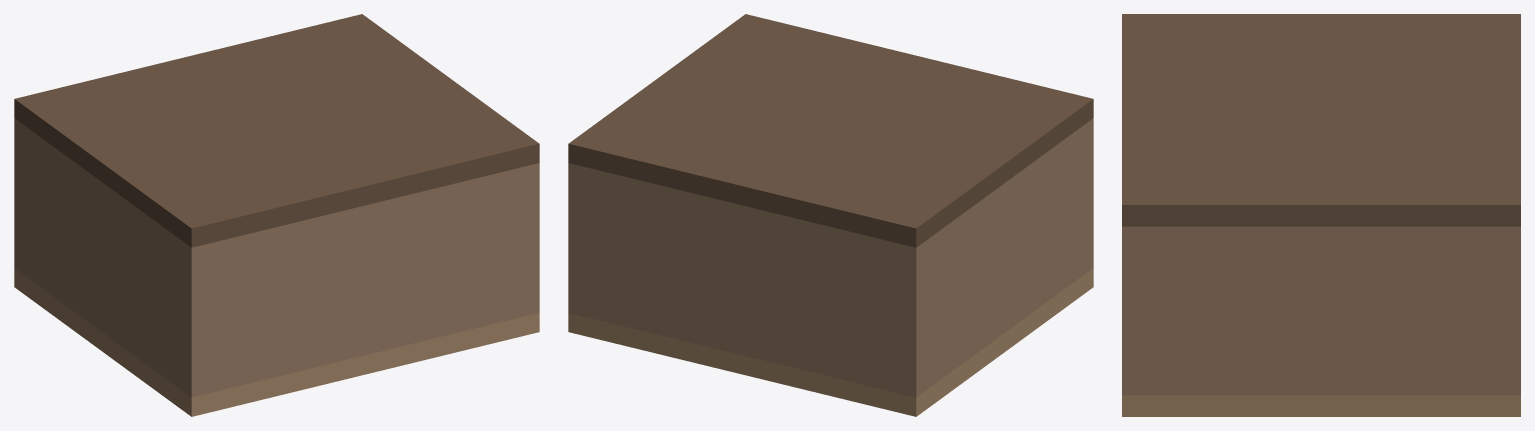
The model's file is casita_a.glb.
3 renders of one model, left to right at view 1: azimuth 30°, elevation 25°; view 2: azimuth 150°, elevation 25°; view 3: azimuth 270°, elevation 25°, orthographic. The views are drawn at different scales.
Visible parts, largest first — view 1: Techo_interior, Pared_sur, Pared_oeste, Suelo, Pared_norte; view 2: Techo_interior, Pared_norte, Pared_oeste, Suelo, Pared_sur; view 3: Techo_interior, Pared_este, Suelo, Pared_norte, Pared_sur.
Boxes of the visible parts, left/top/right/bottom form: Techo_interior: left=14, top=14, right=539, bottom=247; Pared_sur: left=181, top=163, right=539, bottom=397; Pared_oeste: left=25, top=126, right=180, bottom=389; Suelo: left=14, top=268, right=539, bottom=416; Pared_norte: left=14, top=118, right=24, bottom=275; Techo_interior: left=568, top=14, right=1093, bottom=247; Pared_norte: left=568, top=163, right=926, bottom=397; Pared_oeste: left=927, top=126, right=1082, bottom=389; Suelo: left=568, top=268, right=1093, bottom=416; Pared_sur: left=1083, top=118, right=1093, bottom=275; Techo_interior: left=1122, top=14, right=1520, bottom=226; Pared_este: left=1146, top=226, right=1496, bottom=395; Suelo: left=1122, top=395, right=1520, bottom=416; Pared_norte: left=1497, top=226, right=1520, bottom=395; Pared_sur: left=1122, top=226, right=1145, bottom=395.
Bounding box in the file's own units: 8.5 × 4.4 × 7.5.
